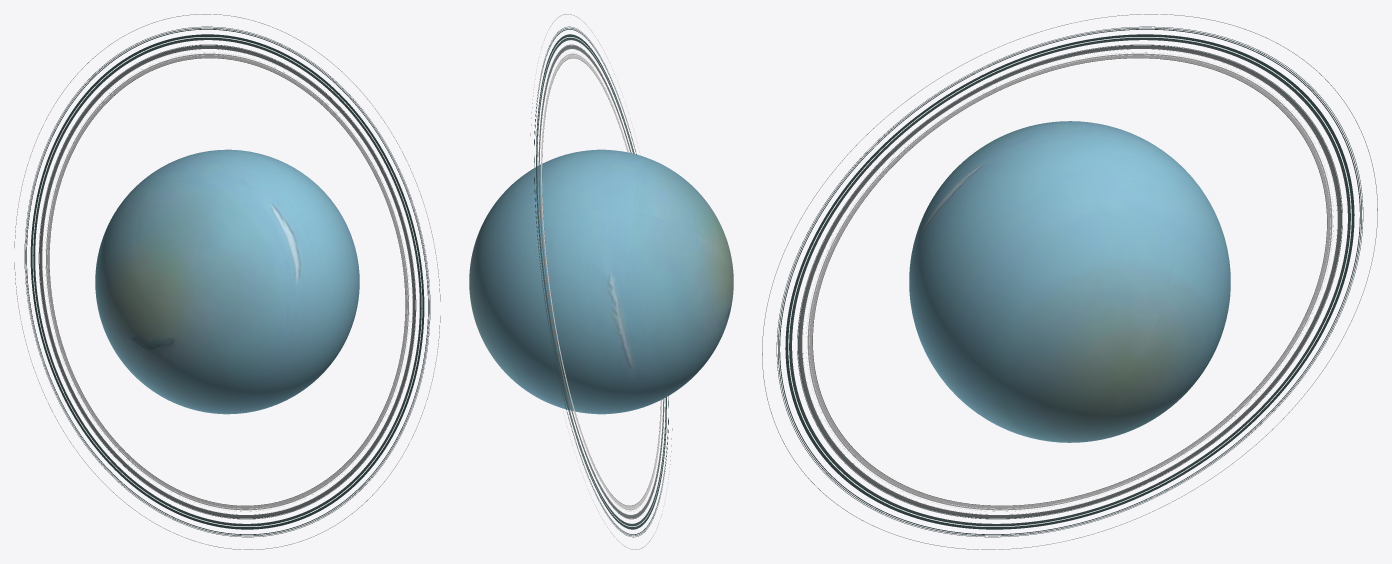
The model's file is uranus.glb.
The picture shows the model from 3 angles, left to right: view 1: azimuth 30°, elevation 25°; view 2: azimuth 150°, elevation 25°; view 3: azimuth 270°, elevation 25°; orthographic projection. The views are drawn at different scales.
Parts seen in each view (by area): view 1: node_id143, node_id145; view 2: node_id143, node_id145; view 3: node_id143, node_id145.
Part boxes in pixels (x1,y1,x2,y2): node_id143: (95, 149, 359, 414); node_id145: (14, 14, 440, 549); node_id143: (469, 149, 733, 414); node_id145: (530, 14, 672, 549); node_id143: (909, 121, 1230, 442); node_id145: (762, 14, 1377, 549).
Size of the model in its own units: 0.2506 by 0.5002 by 0.4797.
2 materials, 2 textured.
